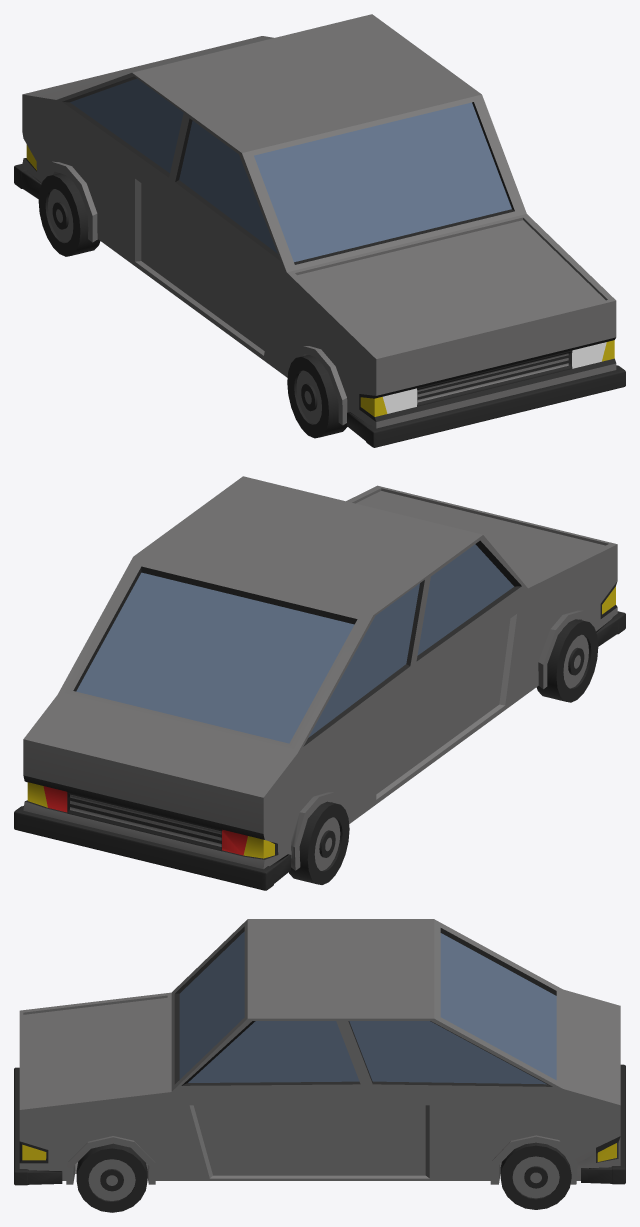
File: Car_Grey.fbx
3 renders of one model, top to bottom at view 1: azimuth 30°, elevation 25°; view 2: azimuth 150°, elevation 25°; view 3: azimuth 270°, elevation 25°, orthographic. The views are drawn at different scales.
Visible parts, largest first — view 1: Car_Grey; view 2: Car_Grey; view 3: Car_Grey.
Boxes of the visible parts, box(x1,y1,x2,y2) form: Car_Grey: box(14, 14, 625, 447); Car_Grey: box(14, 476, 625, 890); Car_Grey: box(14, 919, 625, 1212).
Bounding box in the file's own units: 2.22 × 1.75 × 5.16.
